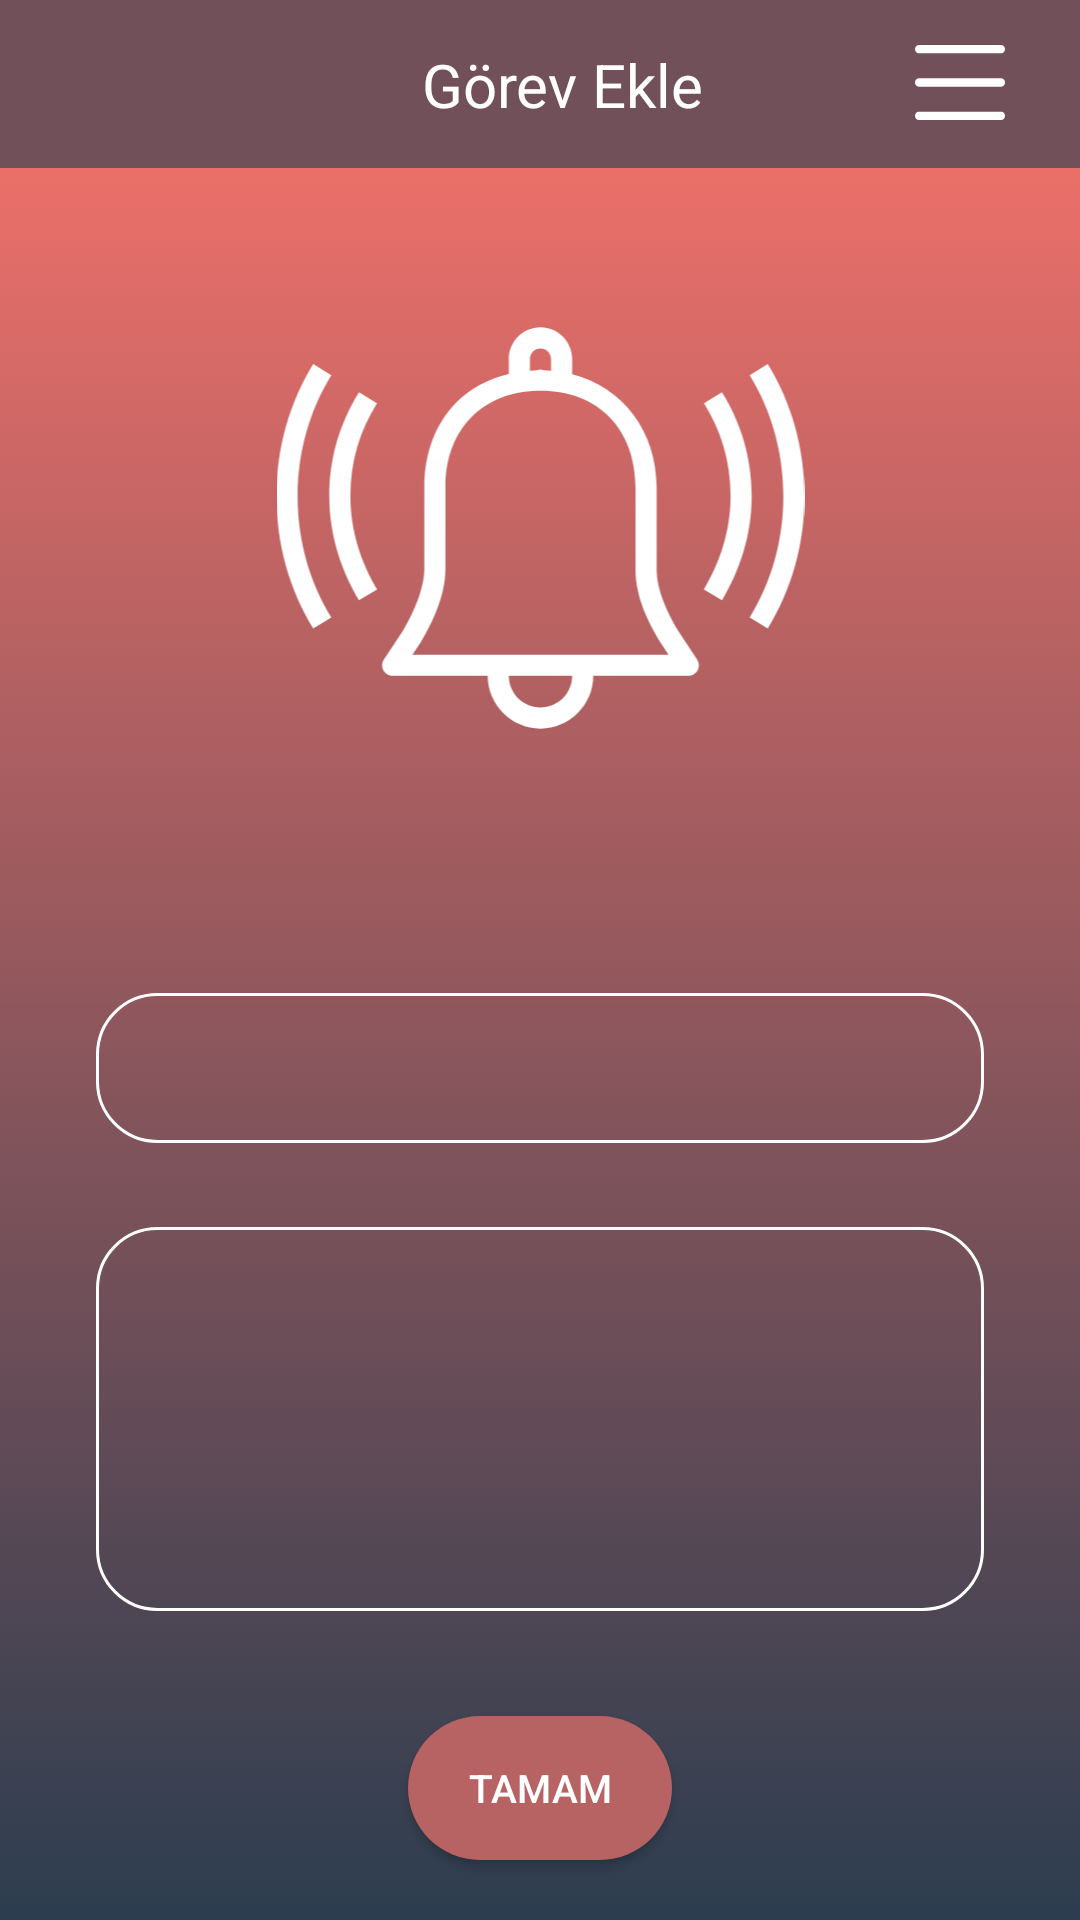

Screen size 1080x1920. Icon name, then its box in pixels as {"x1": x1, "y1": y1, "x2": x2, "y2": y2}:
menu: {"x1": 915, "y1": 45, "x2": 1005, "y2": 120}
